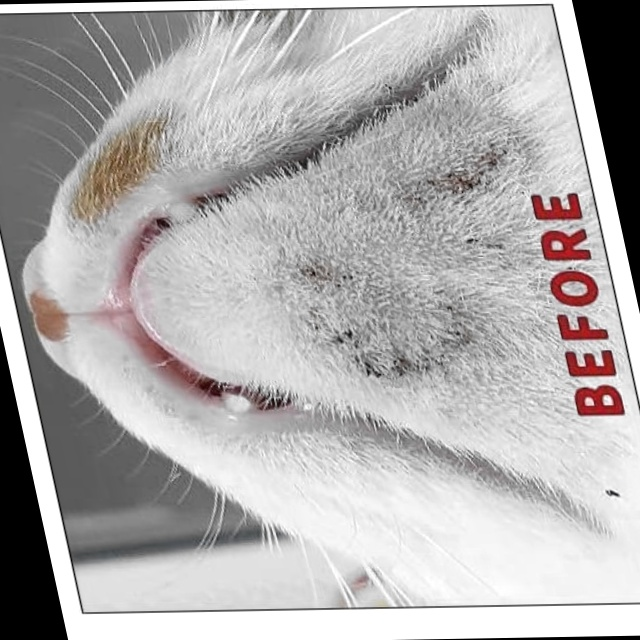acne: (269, 218, 536, 377)
